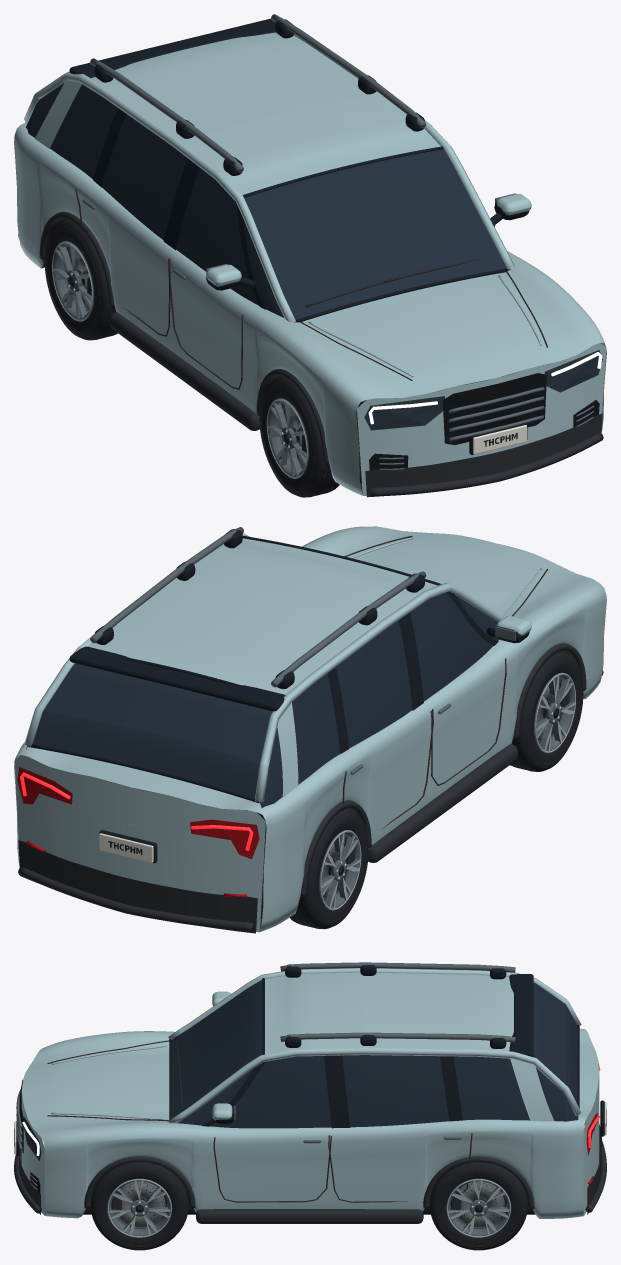
Rendered from terra.glb.
3 views of the same model, one above another, from view 1: azimuth 30°, elevation 25°; view 2: azimuth 150°, elevation 25°; view 3: azimuth 270°, elevation 25° (orthographic). The views are drawn at different scales.
Visible parts, largest first — view 1: body, wheel_FR, wheel_RR; view 2: body, wheel_FR, wheel_RR; view 3: body, wheel_FL, wheel_RL.
Part boxes in pixels (x1=…): body: x1=14, y1=14, x2=606, y2=497; wheel_FR: x1=259, y1=376, x2=339, y2=497; wheel_RR: x1=44, y1=219, x2=117, y2=340; body: x1=14, y1=526, x2=606, y2=933; wheel_FR: x1=510, y1=650, x2=583, y2=771; wheel_RR: x1=289, y1=808, x2=368, y2=929; body: x1=14, y1=962, x2=606, y2=1223; wheel_FL: x1=90, y1=1162, x2=188, y2=1250; wheel_RL: x1=429, y1=1162, x2=527, y2=1250.
Bounding box in the file's own units: 2.35 × 1.82 × 4.81.
